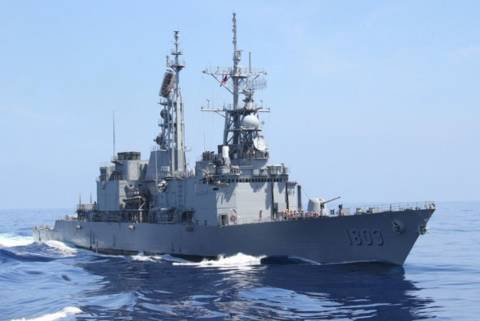bird: (37, 12, 437, 274)
